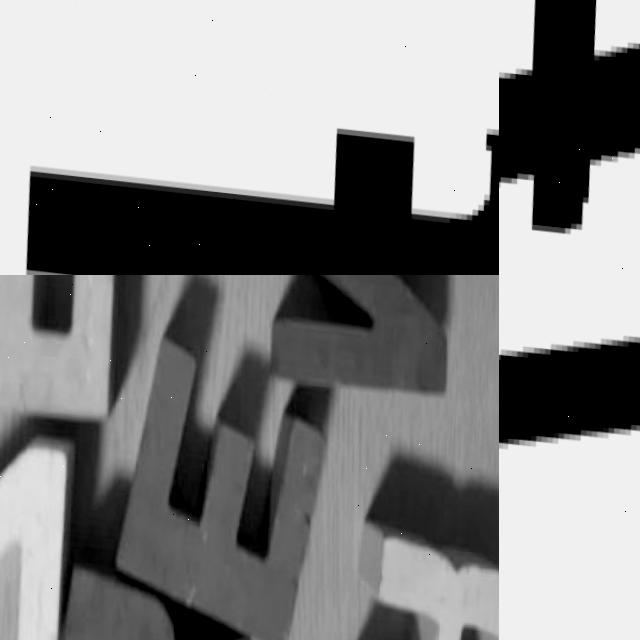E: (93, 325, 337, 640)
F: (1, 65, 499, 275), (0, 275, 137, 433)
N: (244, 275, 466, 402)
R: (334, 521, 499, 640)
T: (499, 0, 640, 275)
U: (499, 275, 640, 640)
